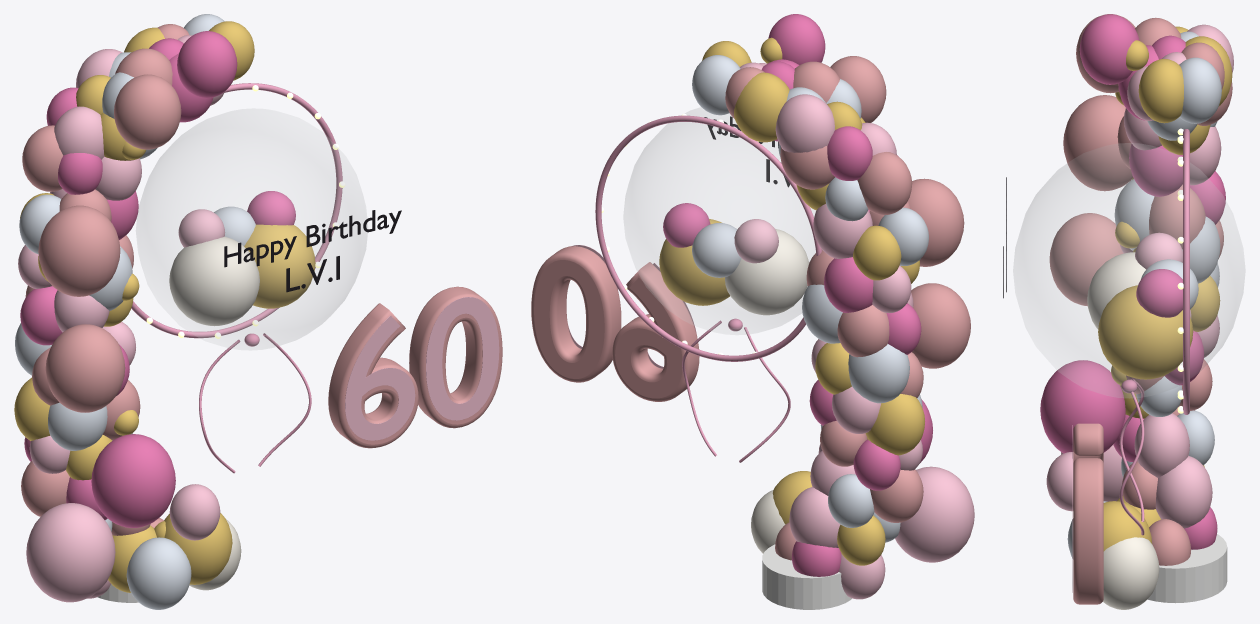
File: rose-gold-60th-birthday.glb
The picture shows the model from 3 angles, left to right: view 1: azimuth 30°, elevation 25°; view 2: azimuth 150°, elevation 25°; view 3: azimuth 270°, elevation 25°; orthographic projection. The views are drawn at different scales.
Parts seen in each view (by area): view 1: Clear inflatable birthday Bobo bubble, Metallic foil age 60, Subtle metallic foil highlight, Featured foil balloon 00, Featured foil balloon 01, Inside bubble 00, Featured foil balloon 03, Featured foil balloon 02, Featured foil balloon 04, Inside bubble 01, Featured foil balloon 06, Featured foil balloon 05 (+37 smaller); view 2: Clear inflatable birthday Bobo bubble, Metallic foil age 60, Featured foil balloon 00, Inside bubble 00, Rose border arc around Bobo bubble, Featured foil balloon 02, Low concealed display support, Featured foil balloon 03, Rose cascade 11-00, Rose cascade 12-04, Inside bubble 01, Rose cascade 05-04 (+41 smaller); view 3: Clear inflatable birthday Bobo bubble, Inside bubble 01, Featured foil balloon 01, Metallic foil age 60, Featured foil balloon 03, Featured foil balloon 02, Featured foil balloon 09, Low concealed display support, Featured foil balloon 05, Rose cascade 01-00, Rose cascade 02-03, Rose cascade 13-02 (+42 smaller).
Part boxes in pixels (x1=…): Clear inflatable birthday Bobo bubble: x1=136, y1=108, x2=367, y2=350; Metallic foil age 60: x1=328, y1=286, x2=502, y2=448; Subtle metallic foil highlight: x1=345, y1=297, x2=499, y2=440; Featured foil balloon 00: x1=26, y1=503, x2=115, y2=602; Featured foil balloon 01: x1=91, y1=434, x2=175, y2=527; Inside bubble 00: x1=169, y1=236, x2=259, y2=326; Featured foil balloon 03: x1=38, y1=205, x2=120, y2=296; Featured foil balloon 02: x1=45, y1=324, x2=125, y2=412; Featured foil balloon 04: x1=114, y1=74, x2=181, y2=149; Inside bubble 01: x1=244, y1=224, x2=315, y2=308; Featured foil balloon 06: x1=126, y1=537, x2=191, y2=609; Featured foil balloon 05: x1=177, y1=31, x2=237, y2=98; Clear inflatable birthday Bobo bubble: x1=623, y1=107, x2=815, y2=334; Metallic foil age 60: x1=531, y1=246, x2=699, y2=401; Featured foil balloon 00: x1=895, y1=466, x2=974, y2=562; Inside bubble 00: x1=725, y1=228, x2=809, y2=315; Rose border arc around Bobo bubble: x1=595, y1=115, x2=821, y2=361; Featured foil balloon 02: x1=911, y1=283, x2=970, y2=368; Low concealed display support: x1=762, y1=544, x2=851, y2=609; Featured foil balloon 03: x1=908, y1=178, x2=964, y2=266; Rose cascade 11-00: x1=775, y1=94, x2=834, y2=152; Rose cascade 12-04: x1=734, y1=72, x2=789, y2=142; Inside bubble 01: x1=659, y1=219, x2=729, y2=305; Rose cascade 05-04: x1=848, y1=344, x2=909, y2=403; Clear inflatable birthday Bobo bubble: x1=1013, y1=143, x2=1245, y2=397; Inside bubble 01: x1=1098, y1=285, x2=1193, y2=379; Featured foil balloon 01: x1=1040, y1=360, x2=1125, y2=453; Metallic foil age 60: x1=1073, y1=423, x2=1103, y2=604; Featured foil balloon 03: x1=1063, y1=95, x2=1132, y2=191; Featured foil balloon 02: x1=1049, y1=213, x2=1123, y2=306; Featured foil balloon 09: x1=1103, y1=537, x2=1159, y2=609; Low concealed display support: x1=1147, y1=534, x2=1227, y2=603; Featured foil balloon 05: x1=1079, y1=14, x2=1139, y2=84; Rose cascade 01-00: x1=1155, y1=455, x2=1212, y2=528; Rose cascade 02-03: x1=1134, y1=413, x2=1189, y2=477; Rose cascade 13-02: x1=1138, y1=59, x2=1183, y2=123.
Bounding box in the file's own units: 4.07 × 4.77 × 1.78.
